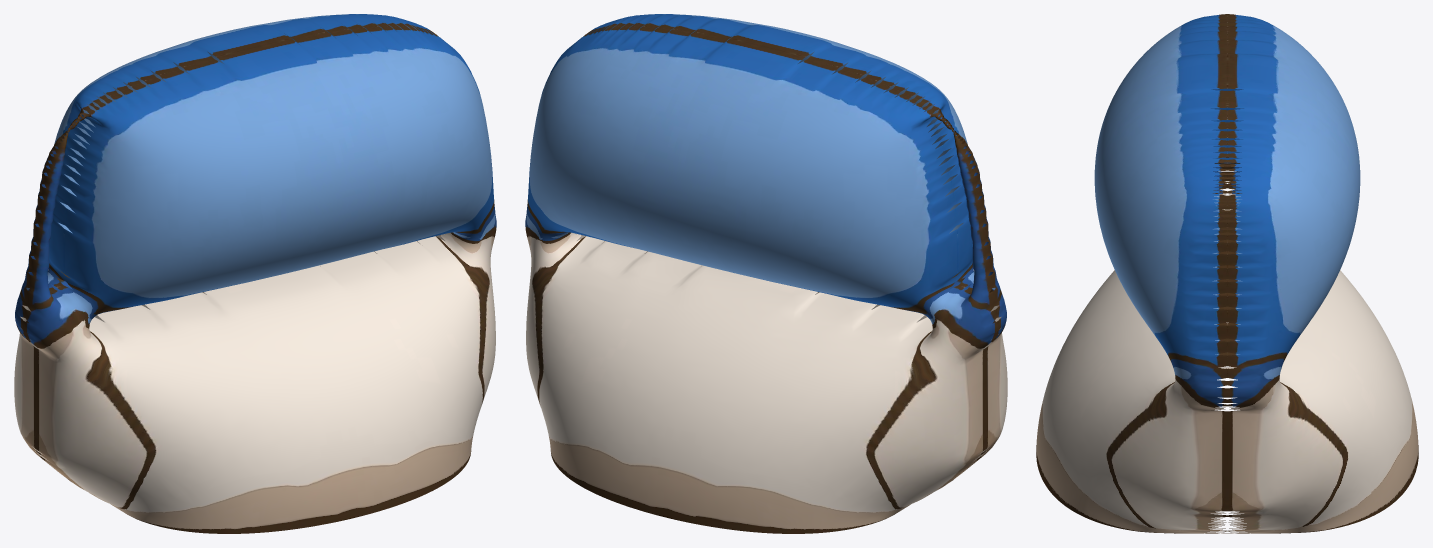
The model's file is armoured_rim.glb.
3 renders of one model, left to right at view 1: azimuth 30°, elevation 25°; view 2: azimuth 150°, elevation 25°; view 3: azimuth 270°, elevation 25°, orthographic. The views are drawn at different scales.
Parts seen in each view (by area): view 1: armoured_rim; view 2: armoured_rim; view 3: armoured_rim.
Boxes of the visible parts, left/top/right/bottom form: armoured_rim: left=14, top=14, right=496, bottom=533; armoured_rim: left=525, top=14, right=1007, bottom=533; armoured_rim: left=1036, top=14, right=1418, bottom=533.
Bounding box in the file's own units: 0.9891 × 0.8125 × 0.7369.
1 material, 1 textured.
